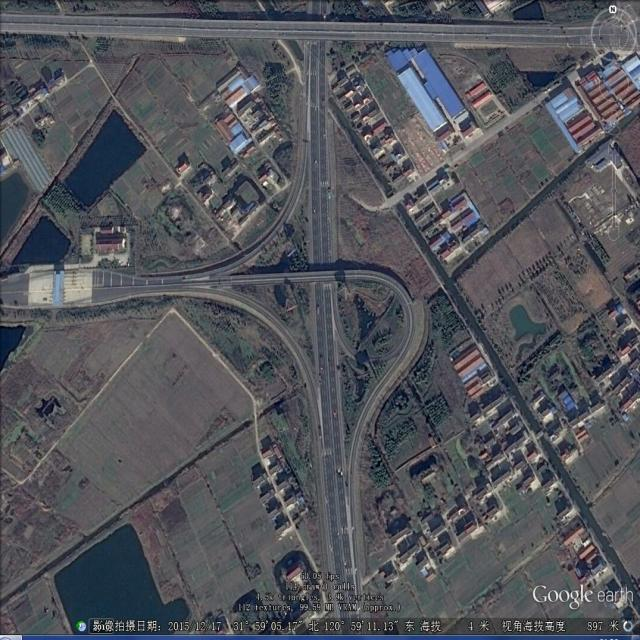overpass: (188, 140, 421, 511)
